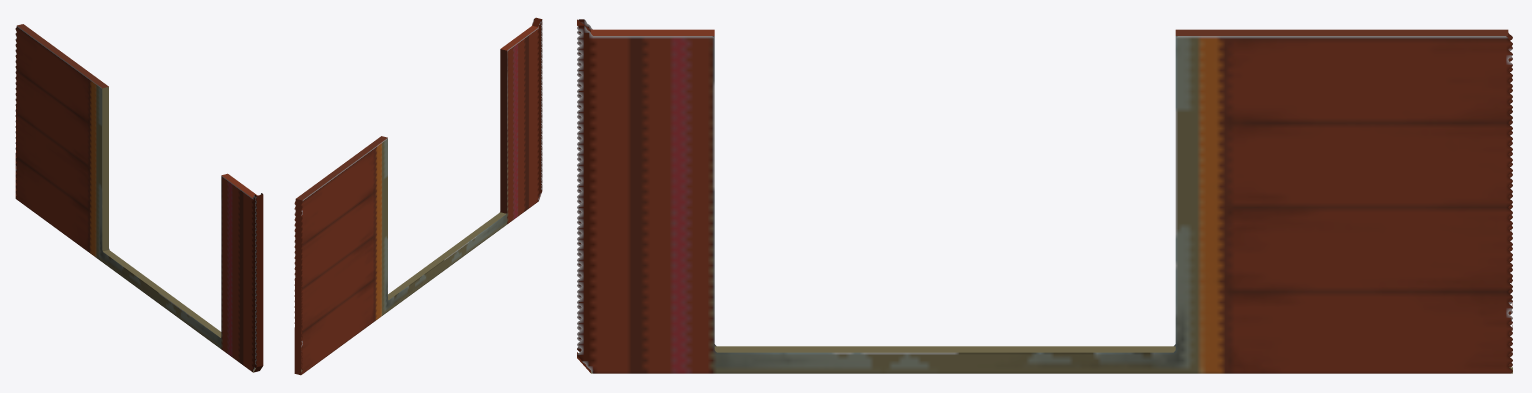
Rendered from pz_native_location_restaurant_spiffos_01_26_frame.obj.
3 views of the same model, side by side, from view 1: azimuth 30°, elevation 25°; view 2: azimuth 150°, elevation 25°; view 3: azimuth 270°, elevation 25° (orthographic). The views are drawn at different scales.
Parts seen in each view (by area): view 1: pz_native_location_restaurant_spiffos_01_26_frame; view 2: pz_native_location_restaurant_spiffos_01_26_frame; view 3: pz_native_location_restaurant_spiffos_01_26_frame.
Part boxes in pixels (x1,y1,x2,y2): pz_native_location_restaurant_spiffos_01_26_frame: (15,24,263,372); pz_native_location_restaurant_spiffos_01_26_frame: (294,17,542,375); pz_native_location_restaurant_spiffos_01_26_frame: (577,19,1512,373).
Bounding box in the file's own units: 0.04 × 1.06 × 2.54.
1 material, 1 textured.
